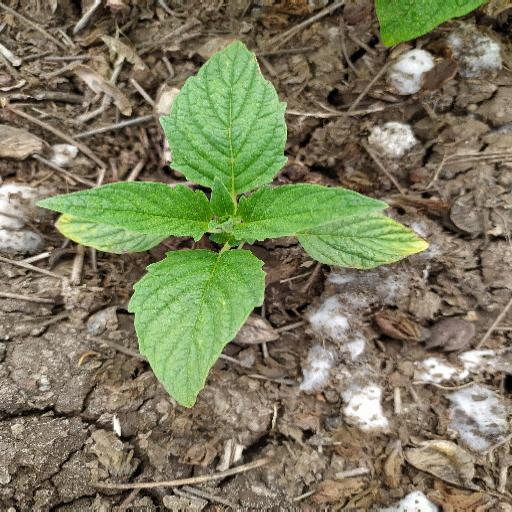crop: (39, 34, 437, 409)
